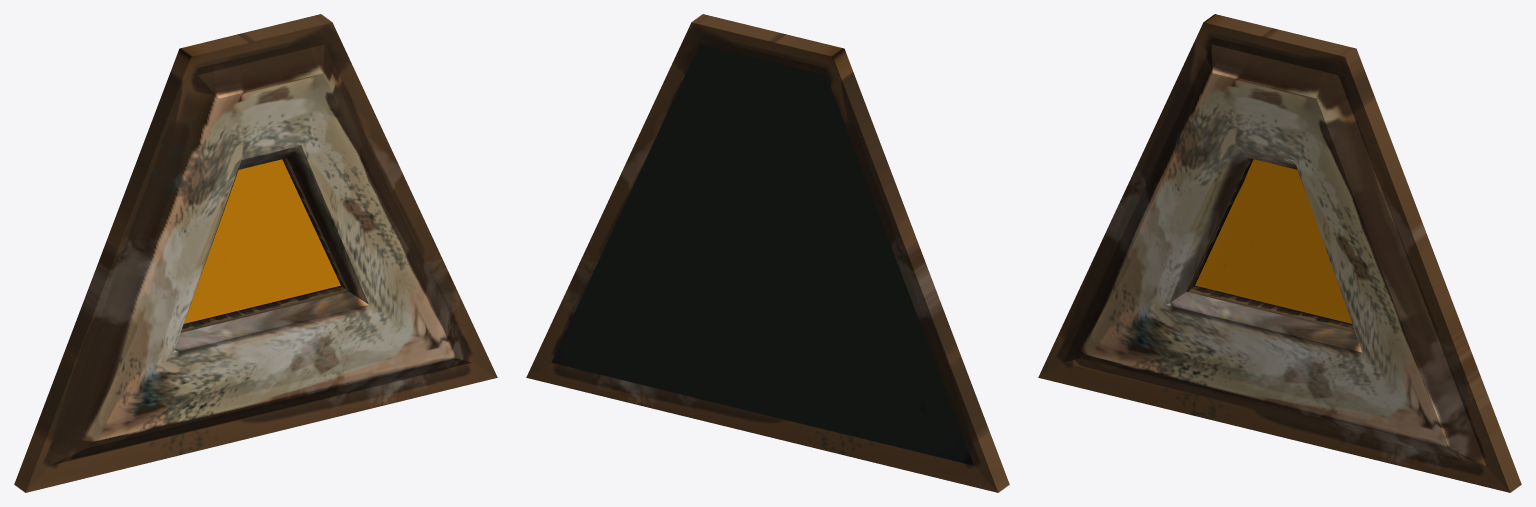
Rendered from Props_dent.fbx.
3 views of the same model, side by side, from view 1: azimuth 30°, elevation 25°; view 2: azimuth 150°, elevation 25°; view 3: azimuth 330°, elevation 25° (orthographic).
Parts seen in each view (by area): view 1: Props_Sign2; view 2: Props_Sign2; view 3: Props_Sign2.
Part boxes in pixels (x1=…): Props_Sign2: x1=14, y1=14, x2=497, y2=492; Props_Sign2: x1=526, y1=14, x2=1009, y2=492; Props_Sign2: x1=1038, y1=14, x2=1521, y2=492.
Size of the model in its own units: 2.73 by 2.19 by 0.2114.
